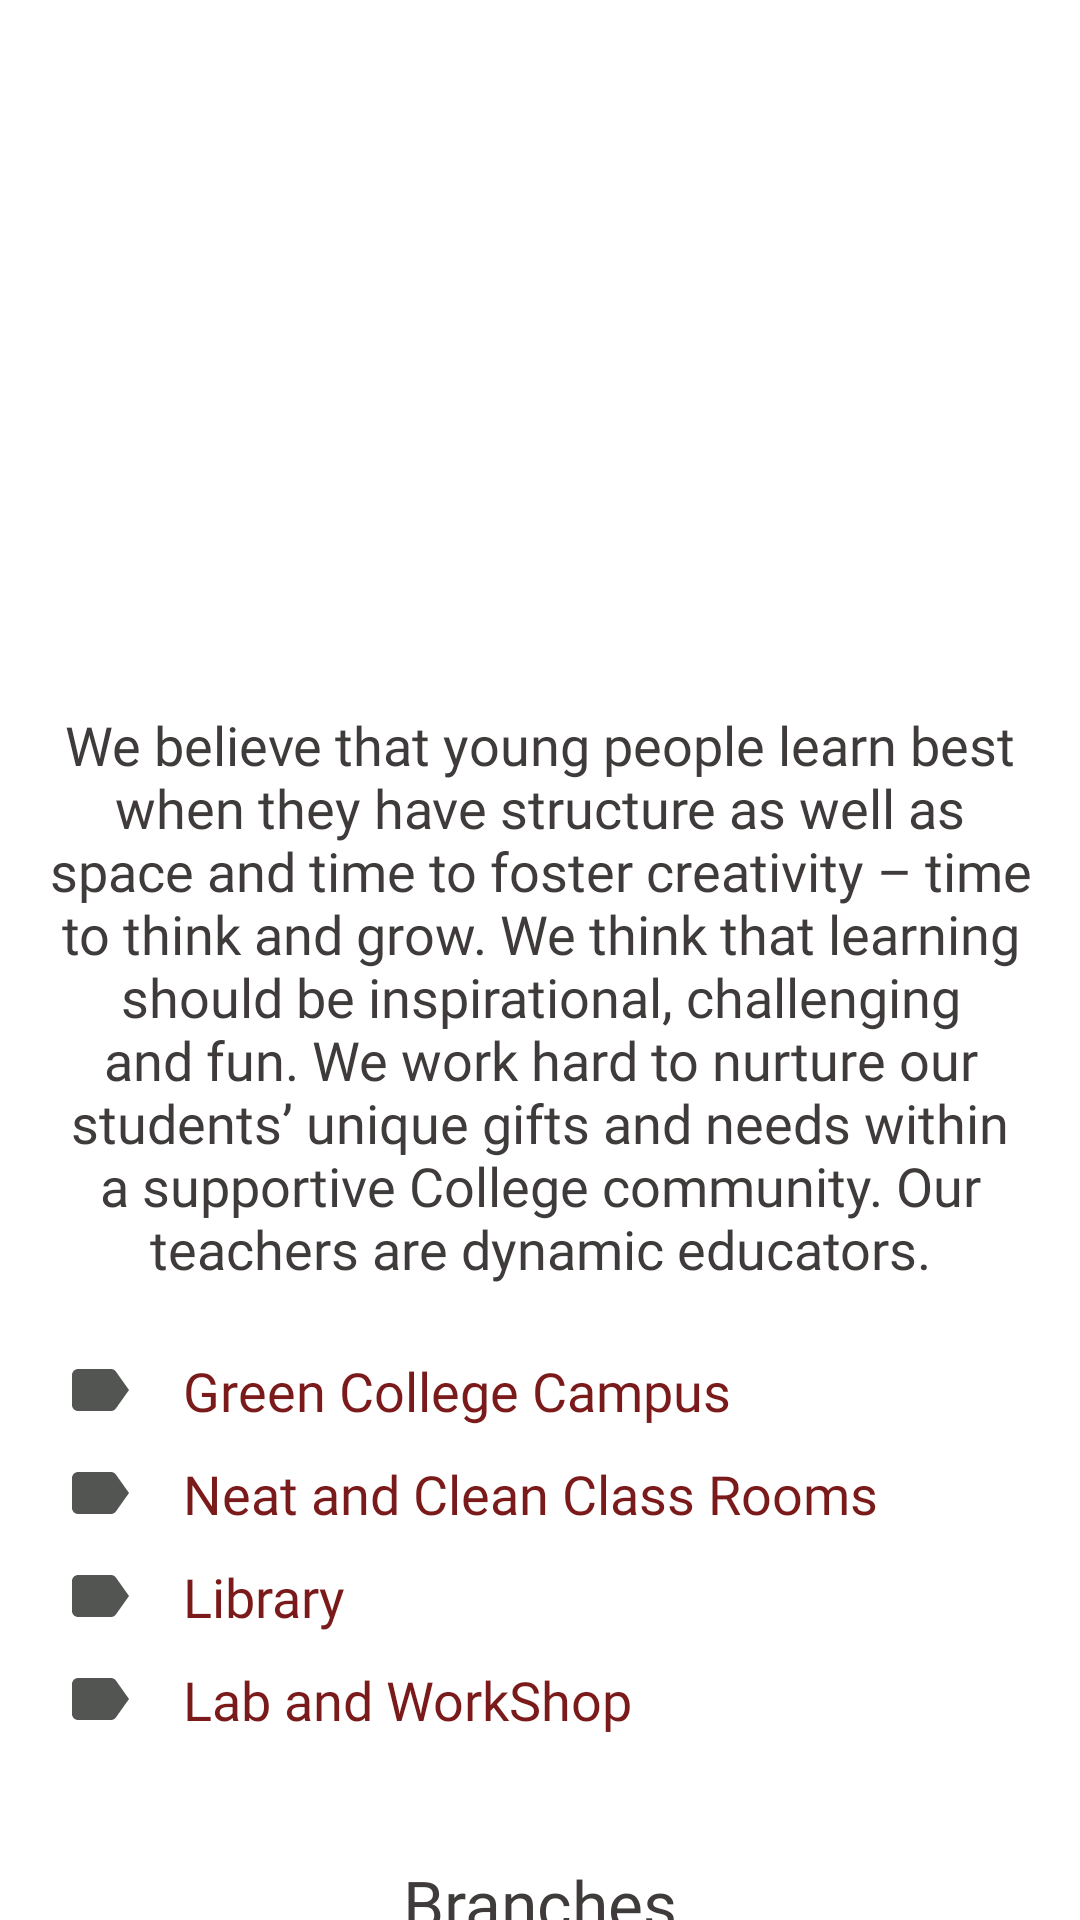

Screen size 1080×1920. Icon name, then its center in pixels as (x=x, y=y):
label: (x=100, y=1390), (x=100, y=1493), (x=100, y=1596), (x=100, y=1699)
